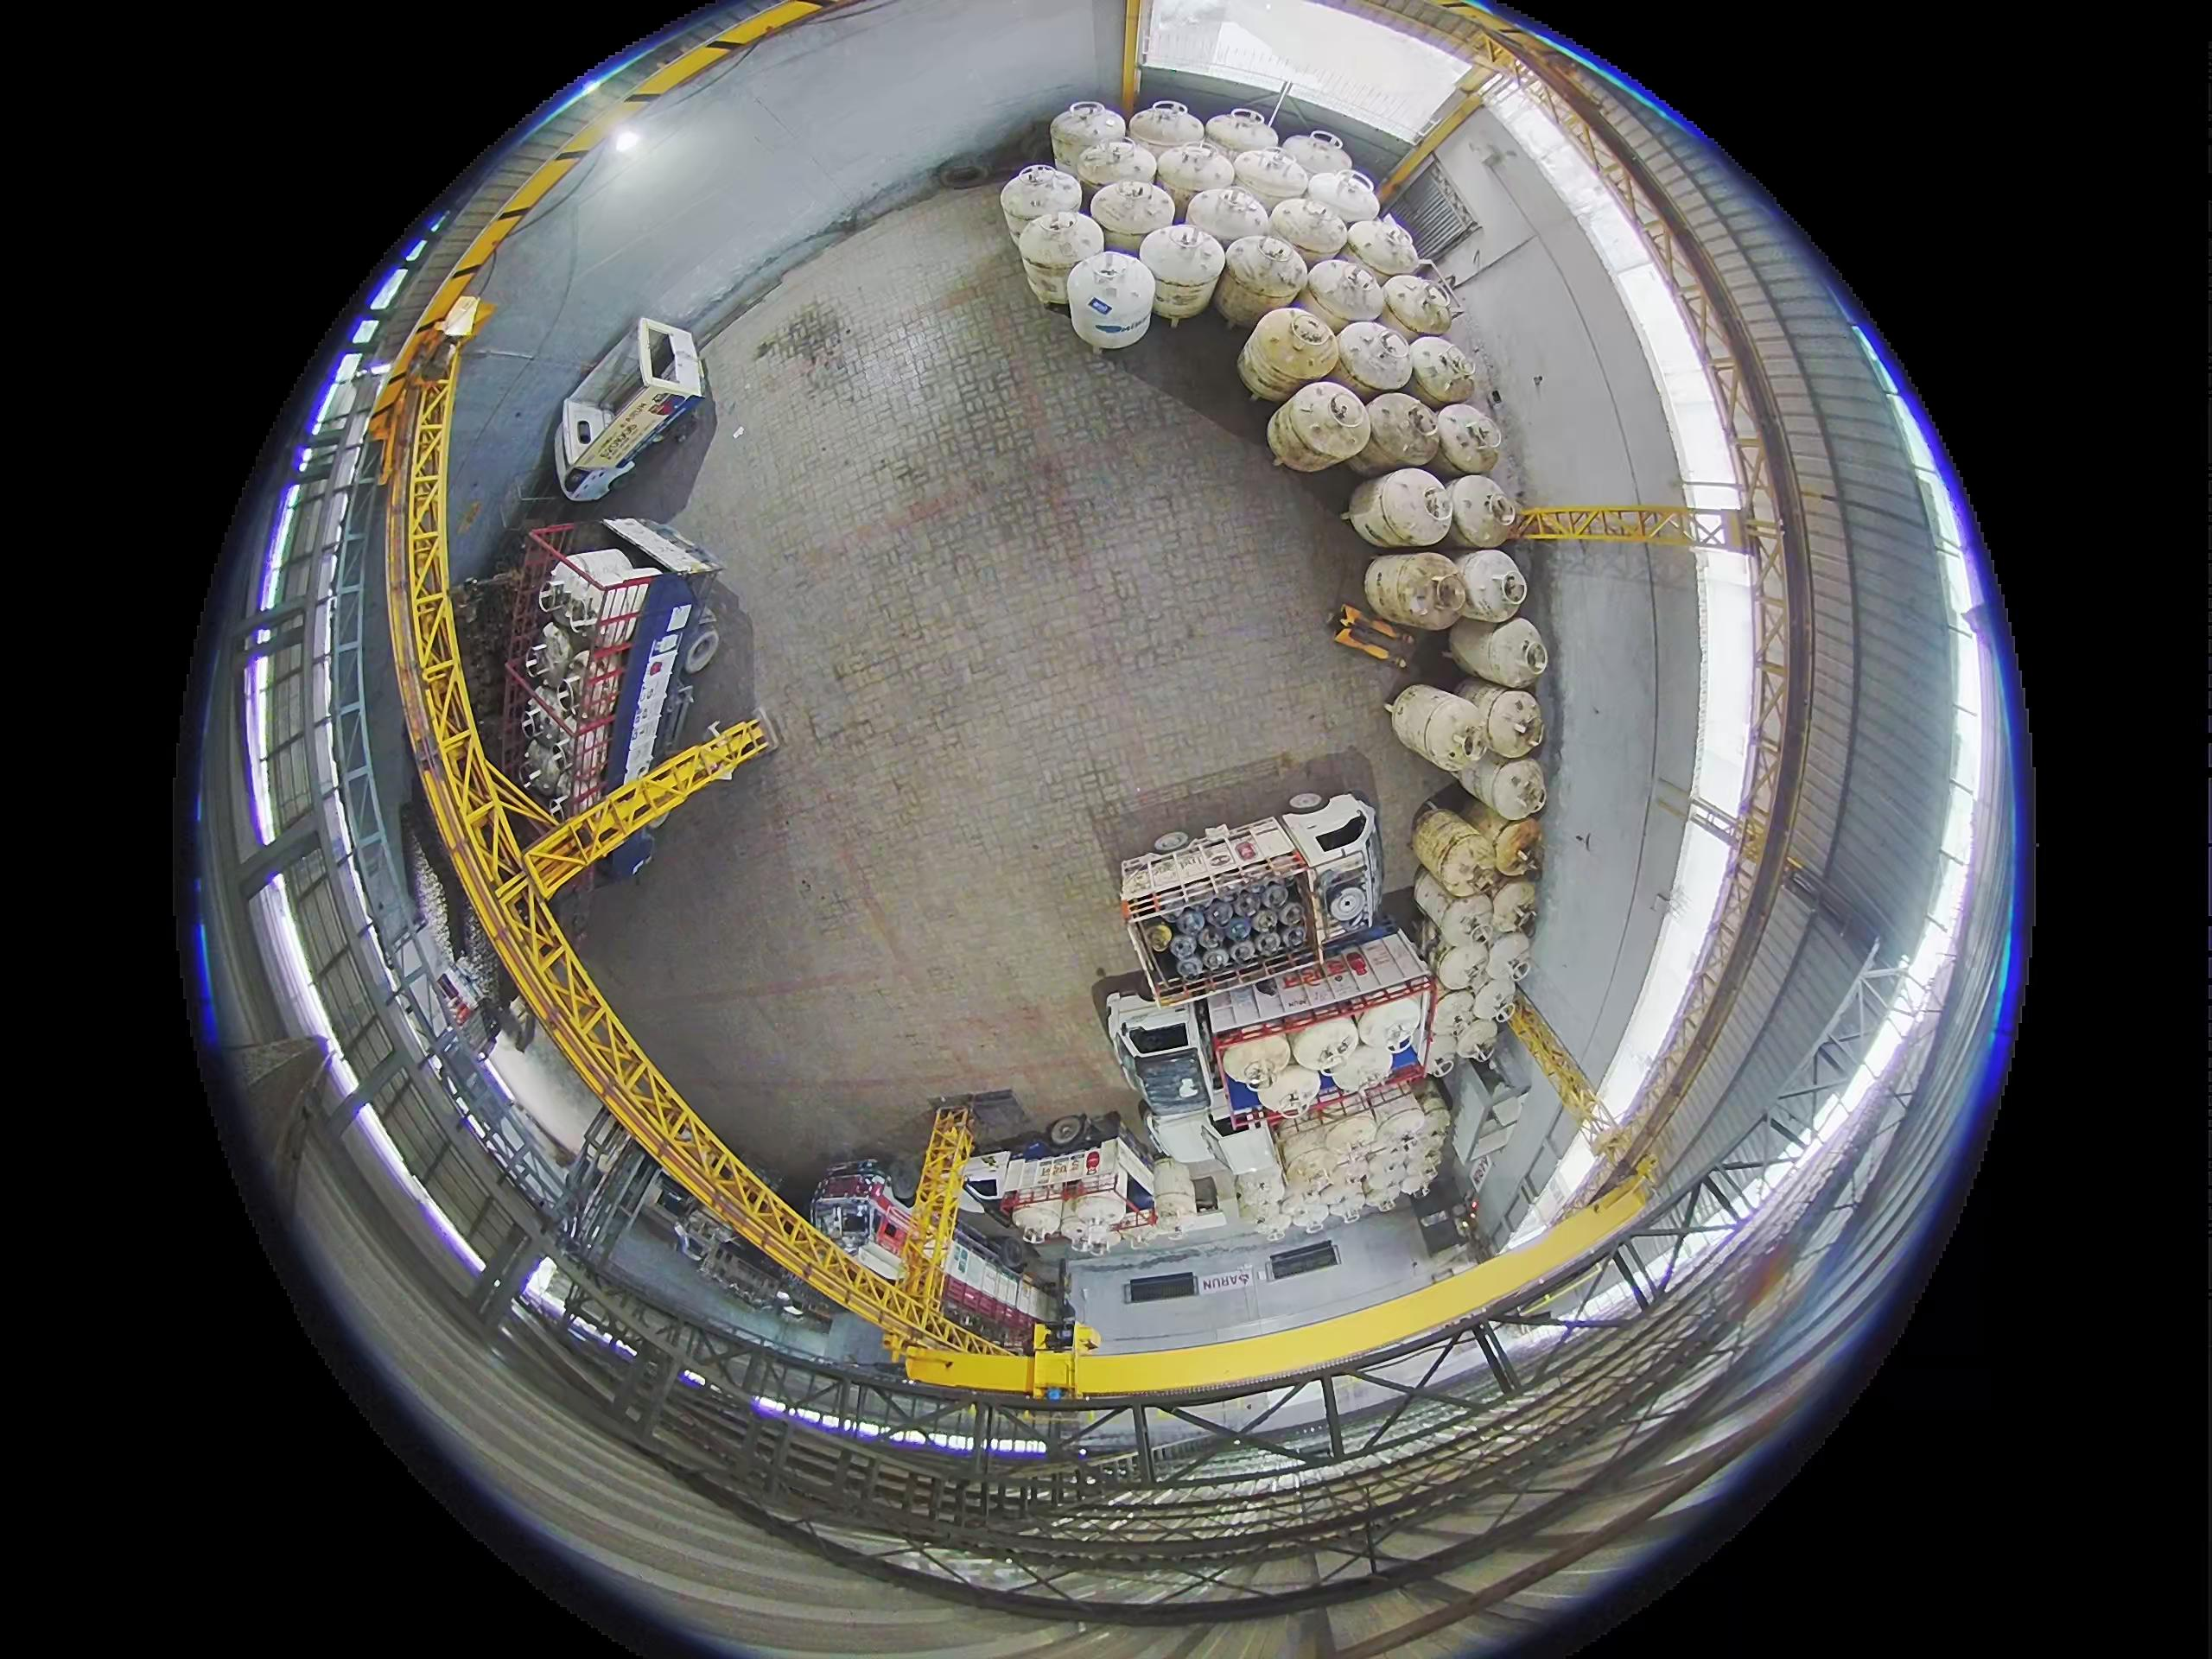cylinder: (1237, 305, 1336, 401), (1385, 685, 1489, 775), (1266, 380, 1367, 469), (1214, 234, 1305, 328), (1362, 551, 1468, 627), (1411, 805, 1500, 896), (1139, 221, 1224, 315), (1064, 251, 1146, 349), (1014, 211, 1094, 310), (1350, 465, 1451, 542), (1447, 617, 1550, 692), (1451, 678, 1543, 753), (1000, 164, 1080, 247), (1305, 256, 1388, 333), (1186, 185, 1273, 258), (1332, 317, 1414, 394), (1360, 392, 1440, 469), (1155, 141, 1237, 216), (1461, 751, 1548, 819), (1268, 193, 1350, 265), (1050, 99, 1122, 179), (1461, 796, 1545, 864), (1454, 549, 1531, 622), (1447, 476, 1524, 545), (1381, 274, 1460, 342), (1231, 146, 1310, 213), (1127, 99, 1205, 166), (1303, 167, 1381, 232), (1432, 403, 1503, 472), (1407, 335, 1479, 404), (1345, 218, 1423, 281), (1075, 136, 1148, 200), (1285, 1011, 1359, 1073), (1329, 1039, 1404, 1098), (1223, 1035, 1294, 1091), (1205, 108, 1278, 162), (1278, 131, 1353, 183), (1357, 999, 1423, 1056), (1254, 1063, 1322, 1119), (1437, 892, 1494, 950), (1280, 1127, 1336, 1183), (1428, 990, 1477, 1053), (1324, 1114, 1379, 1168), (1433, 939, 1489, 992), (1371, 1103, 1428, 1154), (1467, 974, 1519, 1028), (1489, 880, 1540, 936), (1486, 929, 1534, 985), (1413, 870, 1458, 925), (1235, 1169, 1282, 1218), (1425, 1032, 1463, 1080)
truck: (505, 519, 738, 849), (1045, 819, 1435, 974), (554, 319, 711, 509), (968, 1134, 1162, 1260), (941, 1187, 1069, 1349), (812, 1159, 913, 1284)
